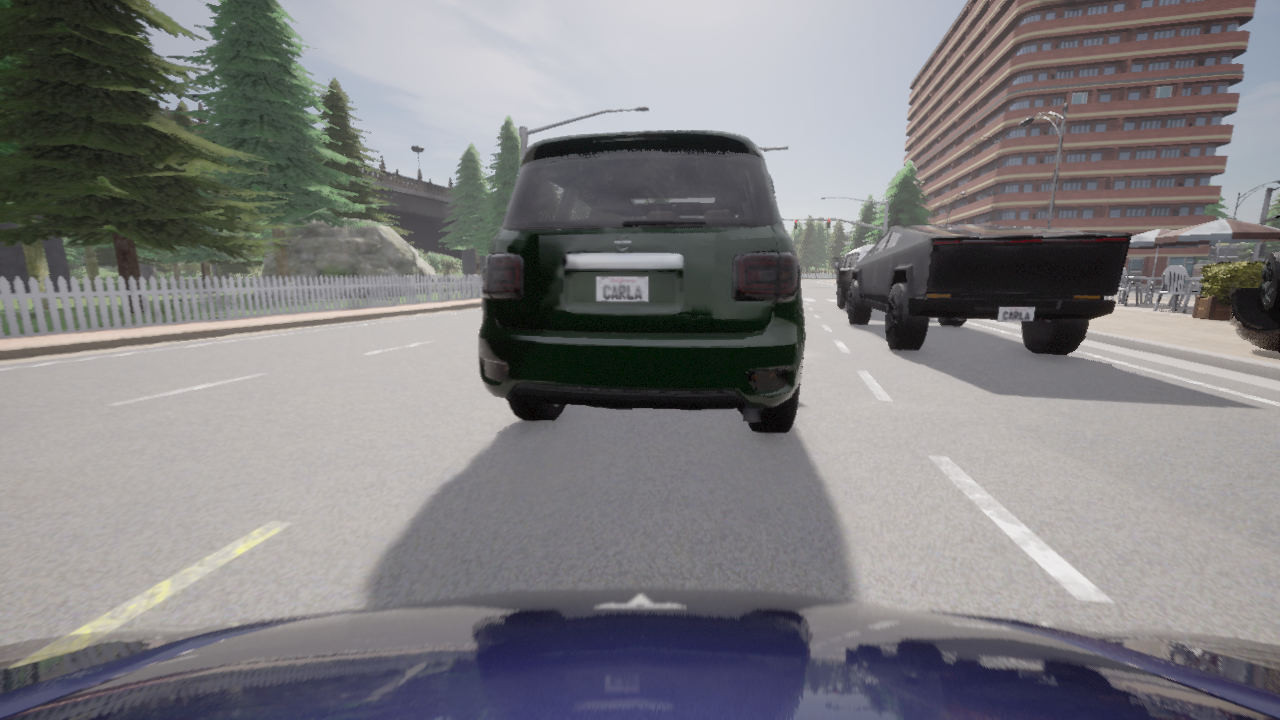cyclist: (0, 588, 1279, 719), (478, 131, 804, 432), (848, 225, 1131, 355), (1227, 251, 1279, 352), (834, 244, 875, 312)
